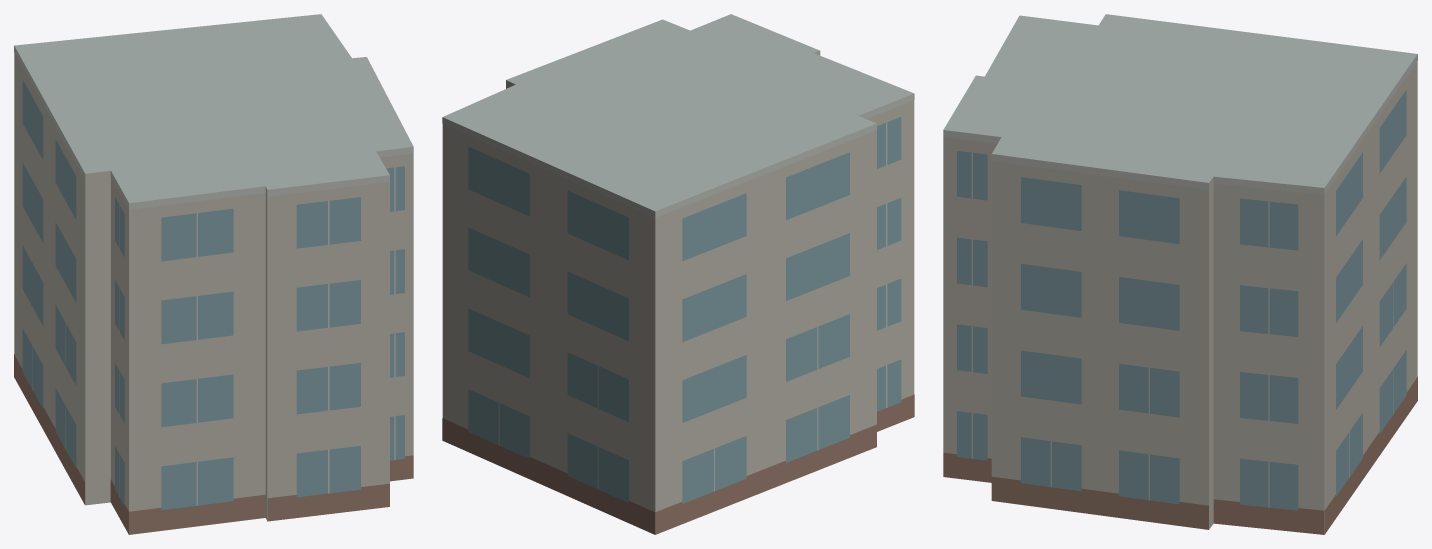
The model's file is survey-upis-32655236.glb.
3 renders of one model, left to right at view 1: azimuth 30°, elevation 25°; view 2: azimuth 150°, elevation 25°; view 3: azimuth 270°, elevation 25°, orthographic. The views are drawn at different scales.
Visible parts, largest first — view 1: survey-upis-32655236.tmp; view 2: survey-upis-32655236.tmp; view 3: survey-upis-32655236.tmp.
Part boxes in pixels (<box>): survey-upis-32655236.tmp: <box>14,14,413,534</box>; survey-upis-32655236.tmp: <box>442,14,914,534</box>; survey-upis-32655236.tmp: <box>943,14,1417,534</box>.
Bounding box in the file's own units: 13.13 × 12.2 × 15.13.
